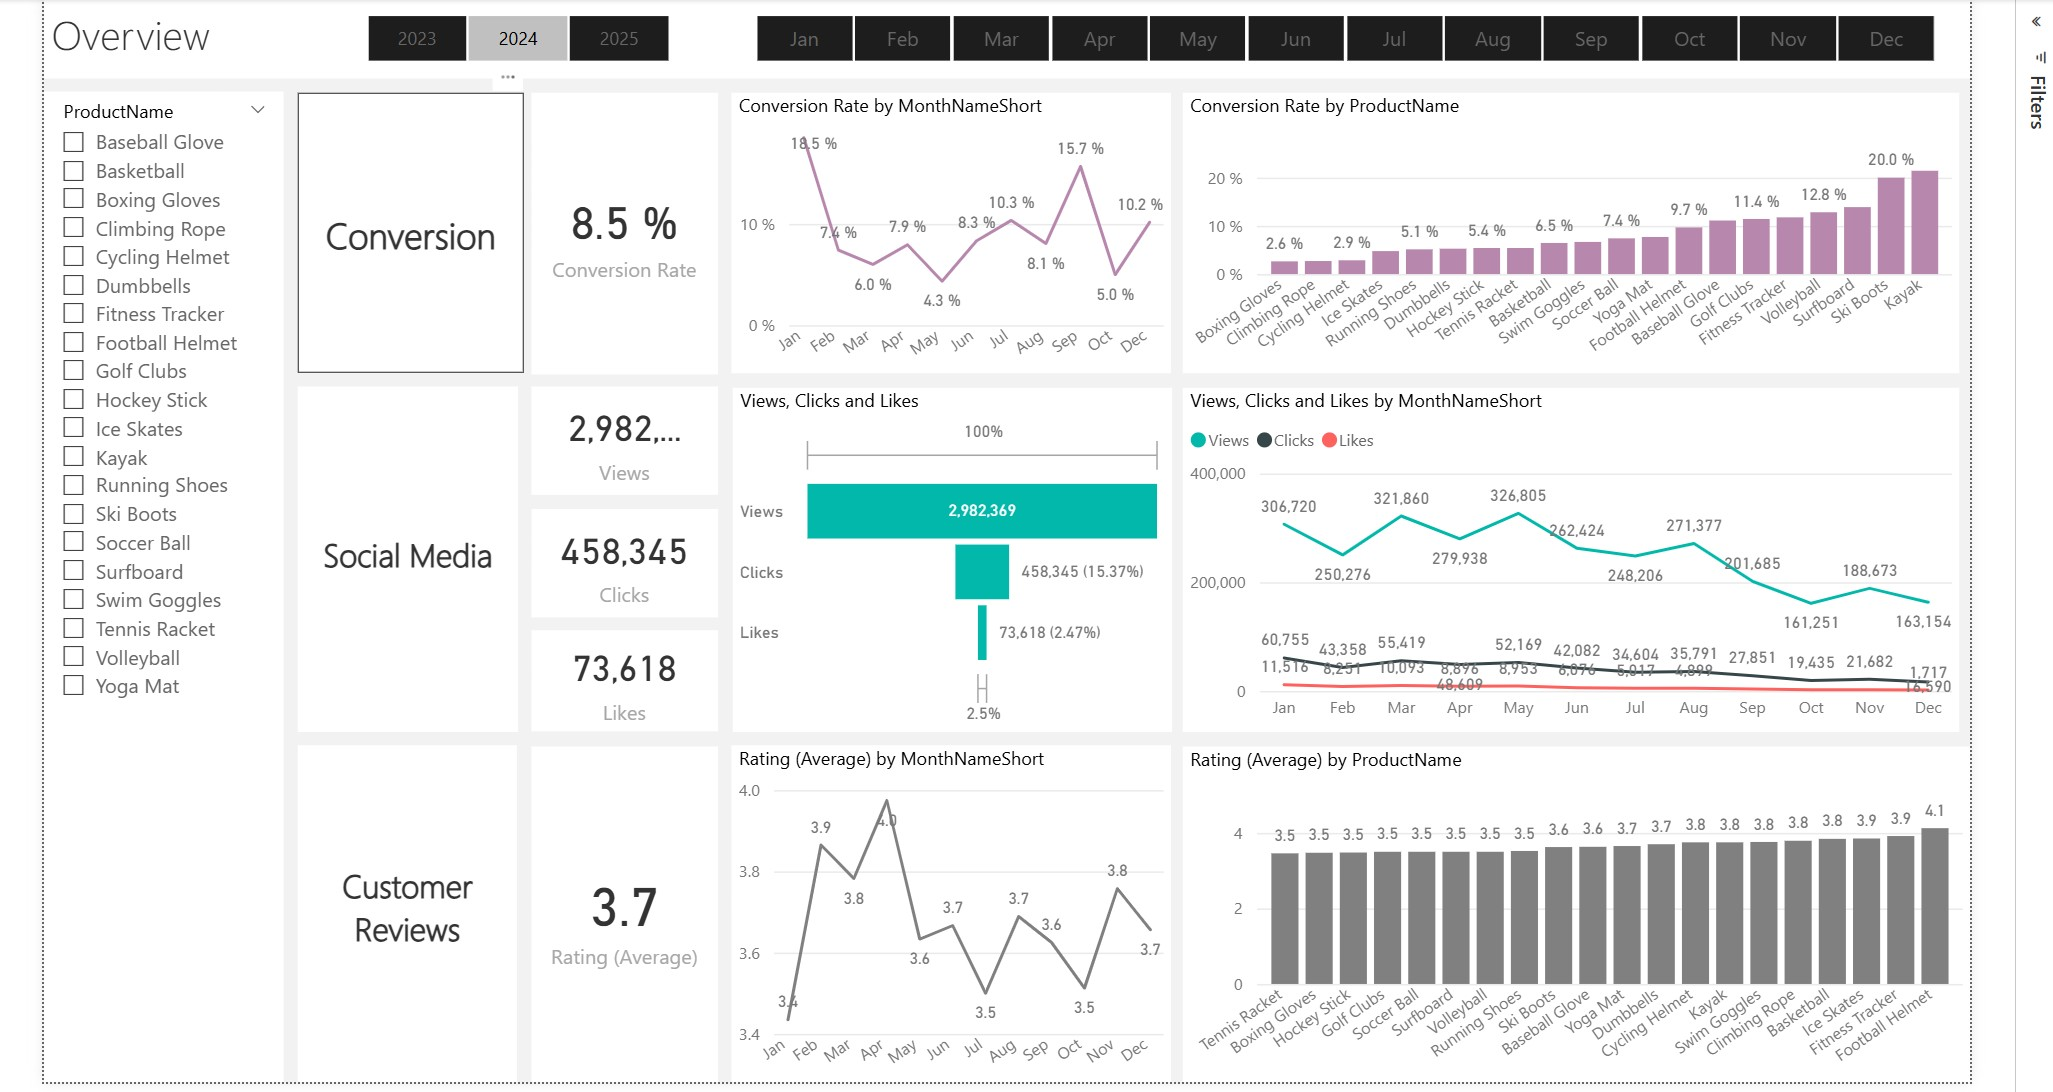

What the dashboard file says about the page in this screenshot:
{"tool":"powerbi","page":{"name":"Overview","canvas":[1280,720],"ordinal":0},"visuals":[{"type":"textbox","box":[0,0,1280,52.6],"z":0},{"type":"slicer","fields":{"Values":["dim_products.ProductName"]},"box":[0,61.6,159.5,658.5],"z":1000},{"type":"card","fields":{"Values":["_Calculations.Conversion Rate"]},"box":[324.1,61.9,123.9,186.8],"z":2000},{"type":"card","fields":{"Values":["_Calculations.Rating (Average)"]},"box":[324.1,496.5,123.9,224],"z":3000},{"type":"lineChart","fields":{"Y":["_Calculations.Conversion Rate"],"Category":["Calendar.MonthNameShort"]},"box":[457.1,61.9,292.3,186.7],"z":4000},{"type":"columnChart","fields":{"Category":["dim_products.ProductName"],"Y":["_Calculations.Conversion Rate"]},"box":[756.7,61.9,516.3,186.7],"z":5000},{"type":"slicer","fields":{"Values":["Calendar.Year"]},"box":[189.4,4.6,249.5,43.7],"z":6000},{"type":"slicer","fields":{"Values":["Calendar.MonthNameShort"]},"box":[448,4.6,832.3,43.7],"z":7000},{"type":"lineChart","fields":{"Y":["_Calculations.Views","_Calculations.Clicks","_Calculations.Likes"],"Category":["Calendar.MonthNameShort"]},"box":[756.6,258.1,516.1,229.2],"z":8000},{"type":"lineChart","fields":{"Category":["Calendar.MonthNameShort"],"Y":["_Calculations.Rating (Average)"]},"box":[457.1,496.3,292.3,224],"z":9000},{"type":"columnChart","fields":{"Category":["dim_products.ProductName"],"Y":["_Calculations.Rating (Average)"]},"box":[756.6,496.5,523.4,224],"z":10000},{"type":"funnel","fields":{"Y":["_Calculations.Views","_Calculations.Clicks","_Calculations.Likes"]},"box":[457.3,258.1,292.1,229.2],"z":11000},{"type":"card","fields":{"Values":["_Calculations.Views"]},"box":[324.2,257.7,123.8,71.9],"z":12000},{"type":"textbox","box":[168.5,61.9,150.3,186.7],"z":13000},{"type":"textbox","box":[168.5,257.7,146.6,229.5],"z":14000},{"type":"textbox","box":[168.5,496.3,145.7,224],"z":15000},{"type":"card","fields":{"Values":["_Calculations.Clicks"]},"box":[324.2,338.8,123.8,71.9],"z":16000},{"type":"card","fields":{"Values":["_Calculations.Likes"]},"box":[324.2,419.8,123.8,67.4],"z":17000}]}

Visuals, with their boxes on the page's 1280x720 design canvas (x1, y1, x2, y2). These are canvas units, not pixel positions in the 2053x1092 screenshot, which may show the page scaled, cropped or inside an application window:
textbox: Rect(0, 0, 1280, 53)
slicer - dim_products.ProductName: Rect(0, 62, 160, 720)
card - _Calculations.Conversion Rate: Rect(324, 62, 448, 249)
card - _Calculations.Rating (Average): Rect(324, 496, 448, 720)
lineChart - _Calculations.Conversion Rate x Calendar.MonthNameShort: Rect(457, 62, 749, 249)
columnChart - dim_products.ProductName x _Calculations.Conversion Rate: Rect(757, 62, 1273, 249)
slicer - Calendar.Year: Rect(189, 5, 439, 48)
slicer - Calendar.MonthNameShort: Rect(448, 5, 1280, 48)
lineChart - _Calculations.Views x _Calculations.Clicks: Rect(757, 258, 1273, 487)
lineChart - Calendar.MonthNameShort x _Calculations.Rating (Average): Rect(457, 496, 749, 720)
columnChart - dim_products.ProductName x _Calculations.Rating (Average): Rect(757, 496, 1280, 720)
funnel - _Calculations.Views x _Calculations.Clicks: Rect(457, 258, 749, 487)
card - _Calculations.Views: Rect(324, 258, 448, 330)
textbox: Rect(168, 62, 319, 249)
textbox: Rect(168, 258, 315, 487)
textbox: Rect(168, 496, 314, 720)
card - _Calculations.Clicks: Rect(324, 339, 448, 411)
card - _Calculations.Likes: Rect(324, 420, 448, 487)
